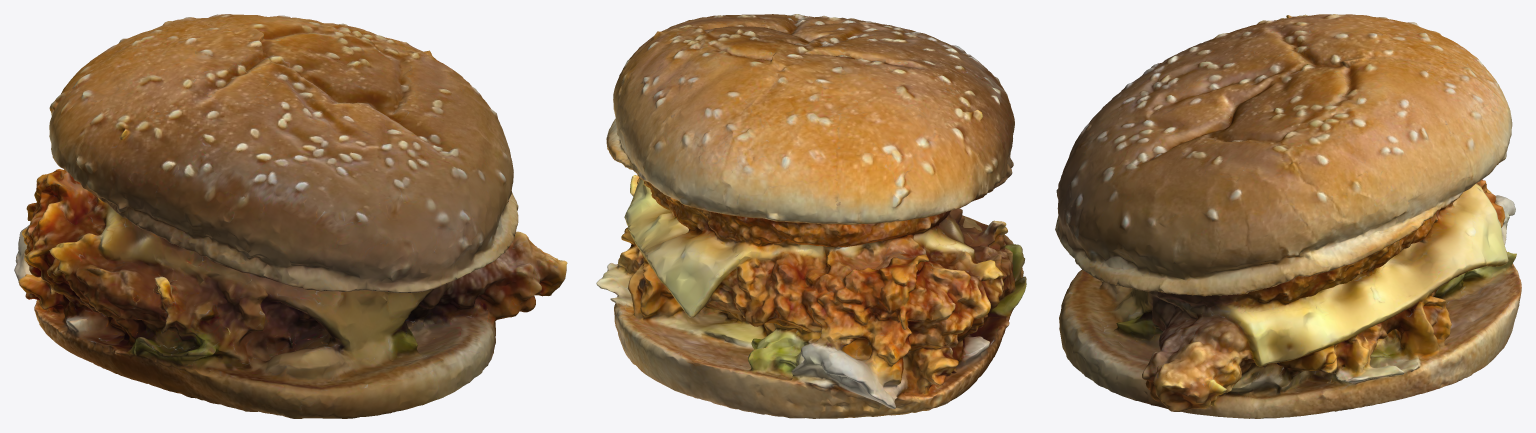
File: kfc-zinger-burger.glb
3 views of the same model, side by side, from view 1: azimuth 30°, elevation 25°; view 2: azimuth 150°, elevation 25°; view 3: azimuth 270°, elevation 25° (orthographic). The views are drawn at different scales.
Bounding box in the file's own units: 0.1254 × 0.0755 × 0.1149.
Materials: 1 (1 with a texture image).
